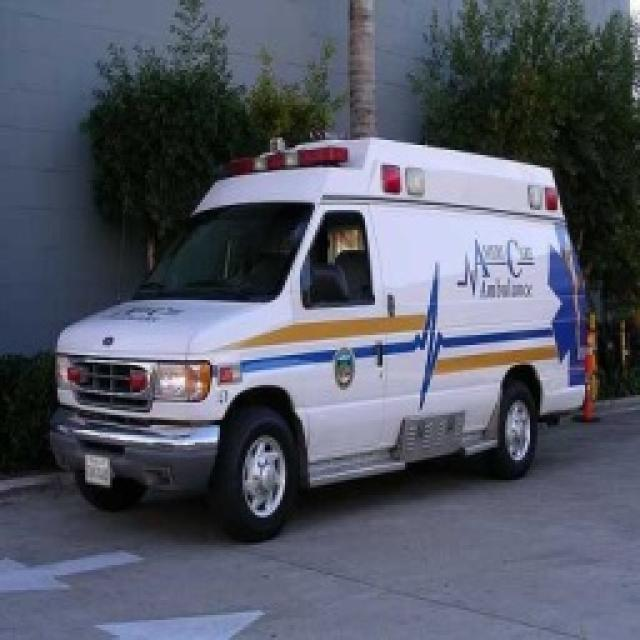emergency-vehicle: (50, 137, 588, 544)
